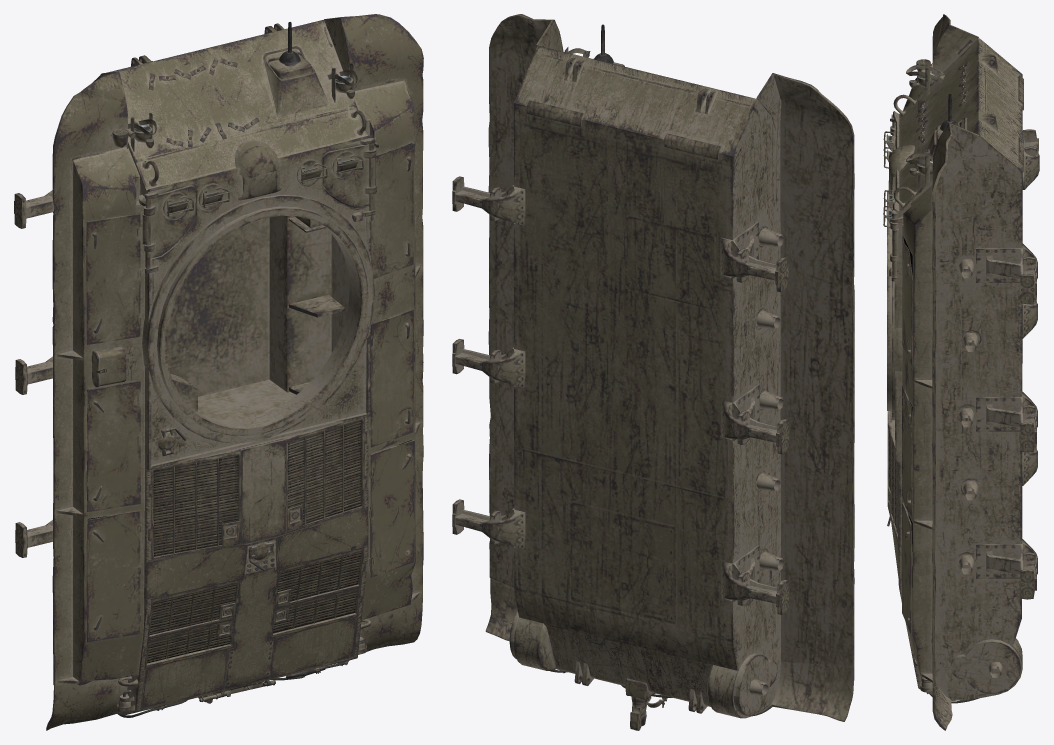
File: Hull.glb
3 renders of one model, left to right at view 1: azimuth 30°, elevation 25°; view 2: azimuth 150°, elevation 25°; view 3: azimuth 270°, elevation 25°, orthographic. The views are drawn at different scales.
Parts seen in each view (by area): view 1: set_0_group_0; view 2: set_0_group_0; view 3: set_0_group_0.
Part boxes in pixels (x1=…): set_0_group_0: x1=14, y1=14, x2=423, y2=730; set_0_group_0: x1=452, y1=14, x2=854, y2=730; set_0_group_0: x1=883, y1=14, x2=1039, y2=730.
Size of the model in its own units: 3.49 by 6.15 by 1.42.
Materials: 1 (1 with a texture image).
